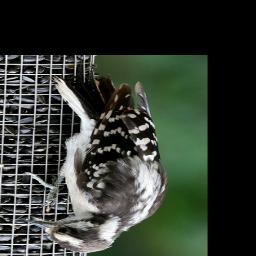Woodpecker: (22, 69, 167, 253)
